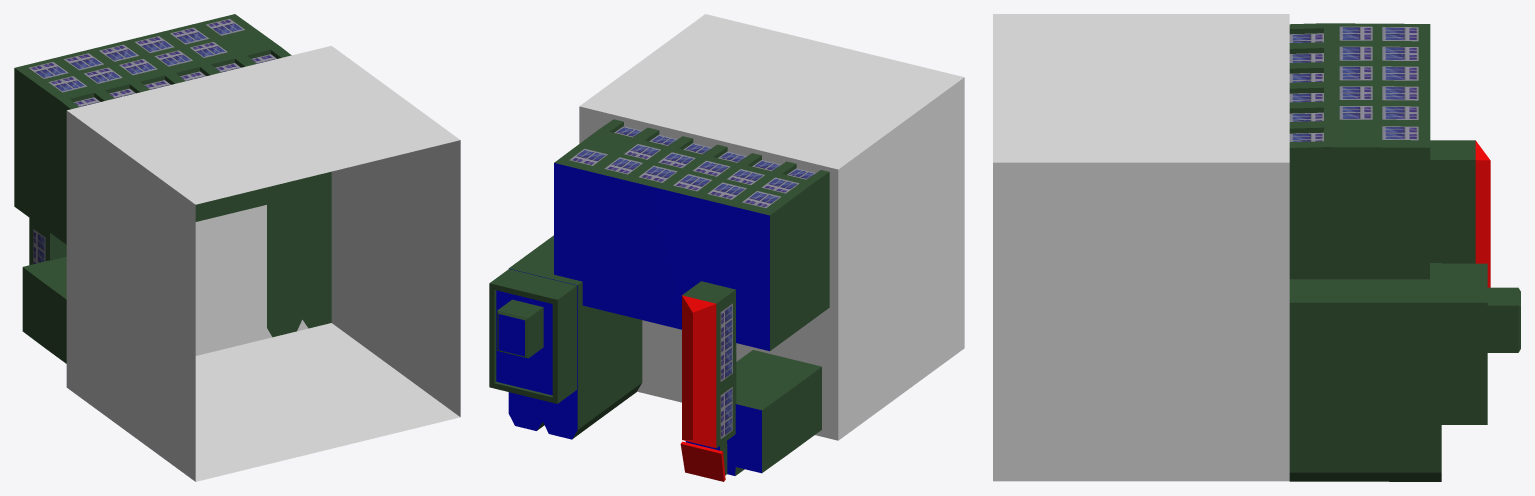
The model's file is block_mixed_03.FBX.
3 views of the same model, side by side, from view 1: azimuth 30°, elevation 25°; view 2: azimuth 150°, elevation 25°; view 3: azimuth 270°, elevation 25° (orthographic). The views are drawn at different scales.
Parts seen in each view (by area): view 1: Plane002, Box1033, building_3s_01_baking004, building_3s_007, Box1034; view 2: Plane002, Box1033, building_3s_01_baking004, building_3s_007, Box1034; view 3: Plane002, building_3s_01_baking004, Box1033, Box1034.
Part boxes in pixels (bbox=[...]): Plane002: bbox=[66, 45, 460, 481]; Box1033: bbox=[14, 14, 296, 244]; building_3s_01_baking004: bbox=[267, 171, 331, 337]; building_3s_007: bbox=[22, 257, 66, 363]; Box1034: bbox=[29, 218, 66, 264]; Plane002: bbox=[579, 14, 964, 440]; Box1033: bbox=[554, 119, 829, 351]; building_3s_01_baking004: bbox=[489, 235, 642, 439]; building_3s_007: bbox=[680, 350, 821, 481]; Box1034: bbox=[682, 281, 736, 448]; Plane002: bbox=[993, 14, 1289, 481]; building_3s_01_baking004: bbox=[1289, 263, 1520, 481]; Box1033: bbox=[1289, 23, 1430, 279]; Box1034: bbox=[1430, 140, 1490, 287].
Bounding box in the file's own units: 30.69 × 30.59 × 45.02.
